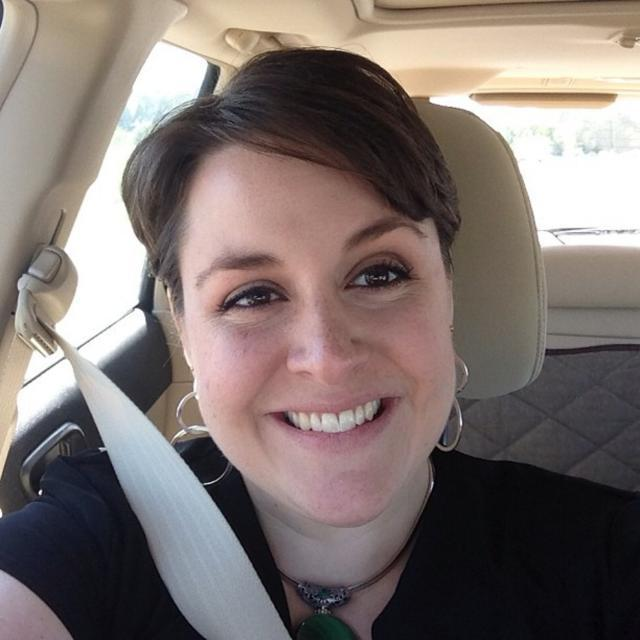SafeDriving: (334, 238, 430, 305), (208, 268, 302, 324)
Seatbelt: (1, 314, 300, 638)
